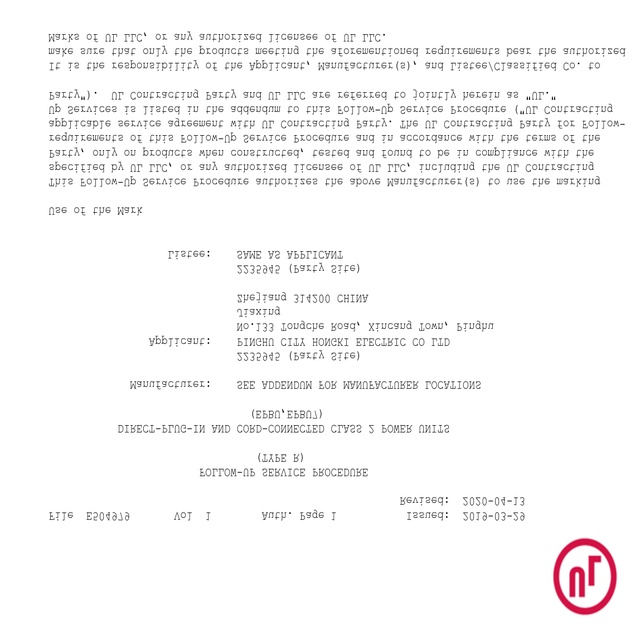ul: (553, 536, 617, 615)
